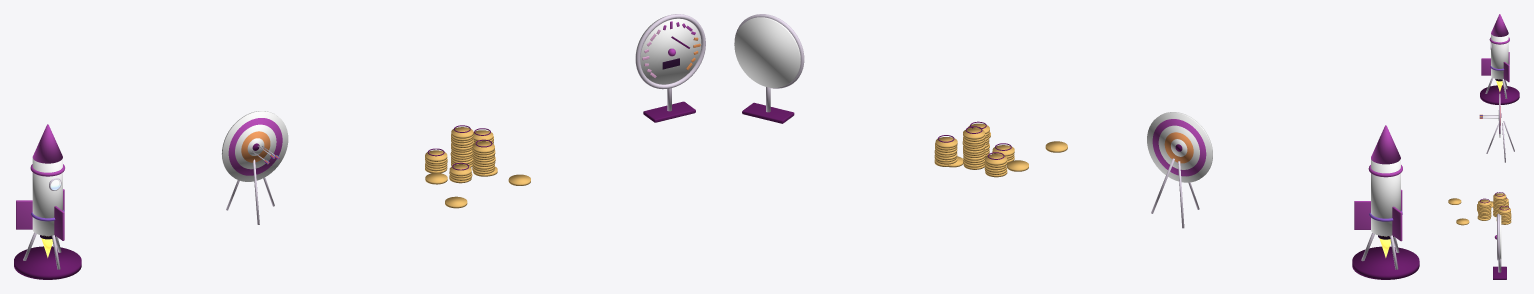
The model's file is ads_a.glb.
The picture shows the model from 3 angles, left to right: view 1: azimuth 30°, elevation 25°; view 2: azimuth 150°, elevation 25°; view 3: azimuth 270°, elevation 25°; orthographic projection. The views are drawn at different scales.
Visible parts, largest first — view 1: GaugeBack, Body, LaunchBase, Ring0, GaugeRim, Ring1, Ring2, Nose, GaugeFoot, Fin1, Ring3; view 2: GaugeBack, Body, LaunchBase, Ring0, Ring1, Ring2, Nose, GaugeFoot, GaugeRim, Ring3, Fin0; view 3: Body, LaunchBase, Nose, GaugeFoot, Fin2, GaugeRim, Fin0, GaugeBack, Ring0, Coin0_13, Loose1, Loose4 (+7 smaller).
Boxes of the visible parts, left/top/right/bottom form: GaugeBack: left=635, top=17, right=701, bottom=84; Body: left=32, top=158, right=62, bottom=235; LaunchBase: left=14, top=246, right=81, bottom=279; Ring0: left=221, top=111, right=288, bottom=181; GaugeRim: left=635, top=14, right=705, bottom=89; Ring1: left=228, top=118, right=282, bottom=175; Ring2: left=235, top=124, right=276, bottom=169; Nose: left=32, top=124, right=62, bottom=163; GaugeFoot: left=643, top=101, right=695, bottom=122; Fin1: left=16, top=200, right=32, bottom=229; Ring3: left=241, top=131, right=270, bottom=162; GaugeBack: left=734, top=17, right=800, bottom=87; Body: left=1371, top=159, right=1400, bottom=236; LaunchBase: left=1352, top=246, right=1419, bottom=279; Ring0: left=1147, top=112, right=1212, bottom=182; Ring1: left=1152, top=119, right=1206, bottom=176; Ring2: left=1158, top=125, right=1199, bottom=169; Nose: left=1371, top=125, right=1400, bottom=164; GaugeFoot: left=742, top=102, right=794, bottom=123; GaugeRim: left=734, top=14, right=804, bottom=88; Ring3: left=1164, top=132, right=1193, bottom=163; Fin0: left=1354, top=201, right=1370, bottom=229; Body: left=1491, top=34, right=1508, bottom=79; LaunchBase: left=1480, top=85, right=1519, bottom=104; Nose: left=1491, top=14, right=1508, bottom=36; GaugeFoot: left=1493, top=266, right=1506, bottom=279; Fin2: left=1481, top=58, right=1490, bottom=75; GaugeRim: left=1497, top=213, right=1499, bottom=260; Fin0: left=1503, top=62, right=1509, bottom=82; GaugeBack: left=1500, top=215, right=1501, bottom=259; Ring0: left=1499, top=93, right=1500, bottom=137; Coin0_13: left=1493, top=193, right=1506, bottom=199; Loose1: left=1448, top=198, right=1461, bottom=204; Loose4: left=1456, top=218, right=1469, bottom=225.
Bounding box in the file's own units: 19.86 × 3.91 × 3.06.
